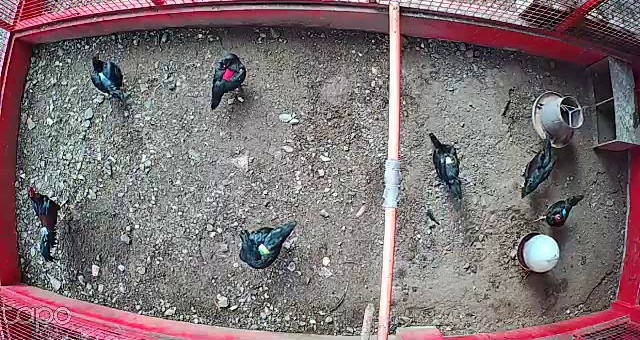Chicken: (234, 220, 295, 269), (427, 130, 467, 201), (515, 138, 561, 198), (207, 50, 249, 112), (86, 49, 128, 106), (531, 191, 584, 226)
Rooster: (27, 184, 72, 269)
Saddle_Color_Blue: (562, 209, 568, 214)
Saddle_Color_Red: (219, 67, 236, 80)
Saddle_Color_Yellow: (441, 155, 452, 165)
Saddle_Color_YellowGreen: (257, 242, 270, 254)
